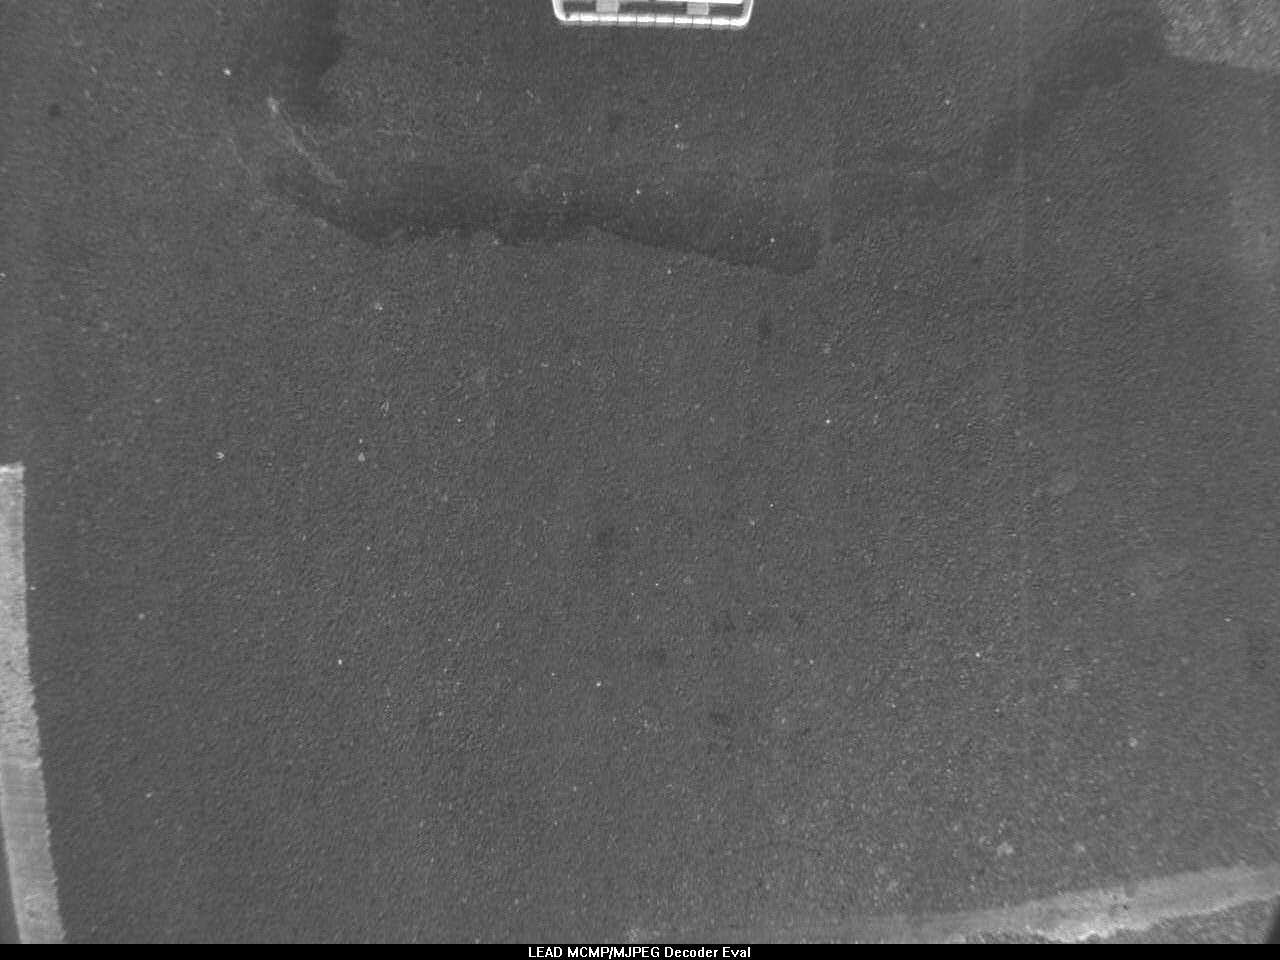sealed: (816, 851, 1273, 941)
